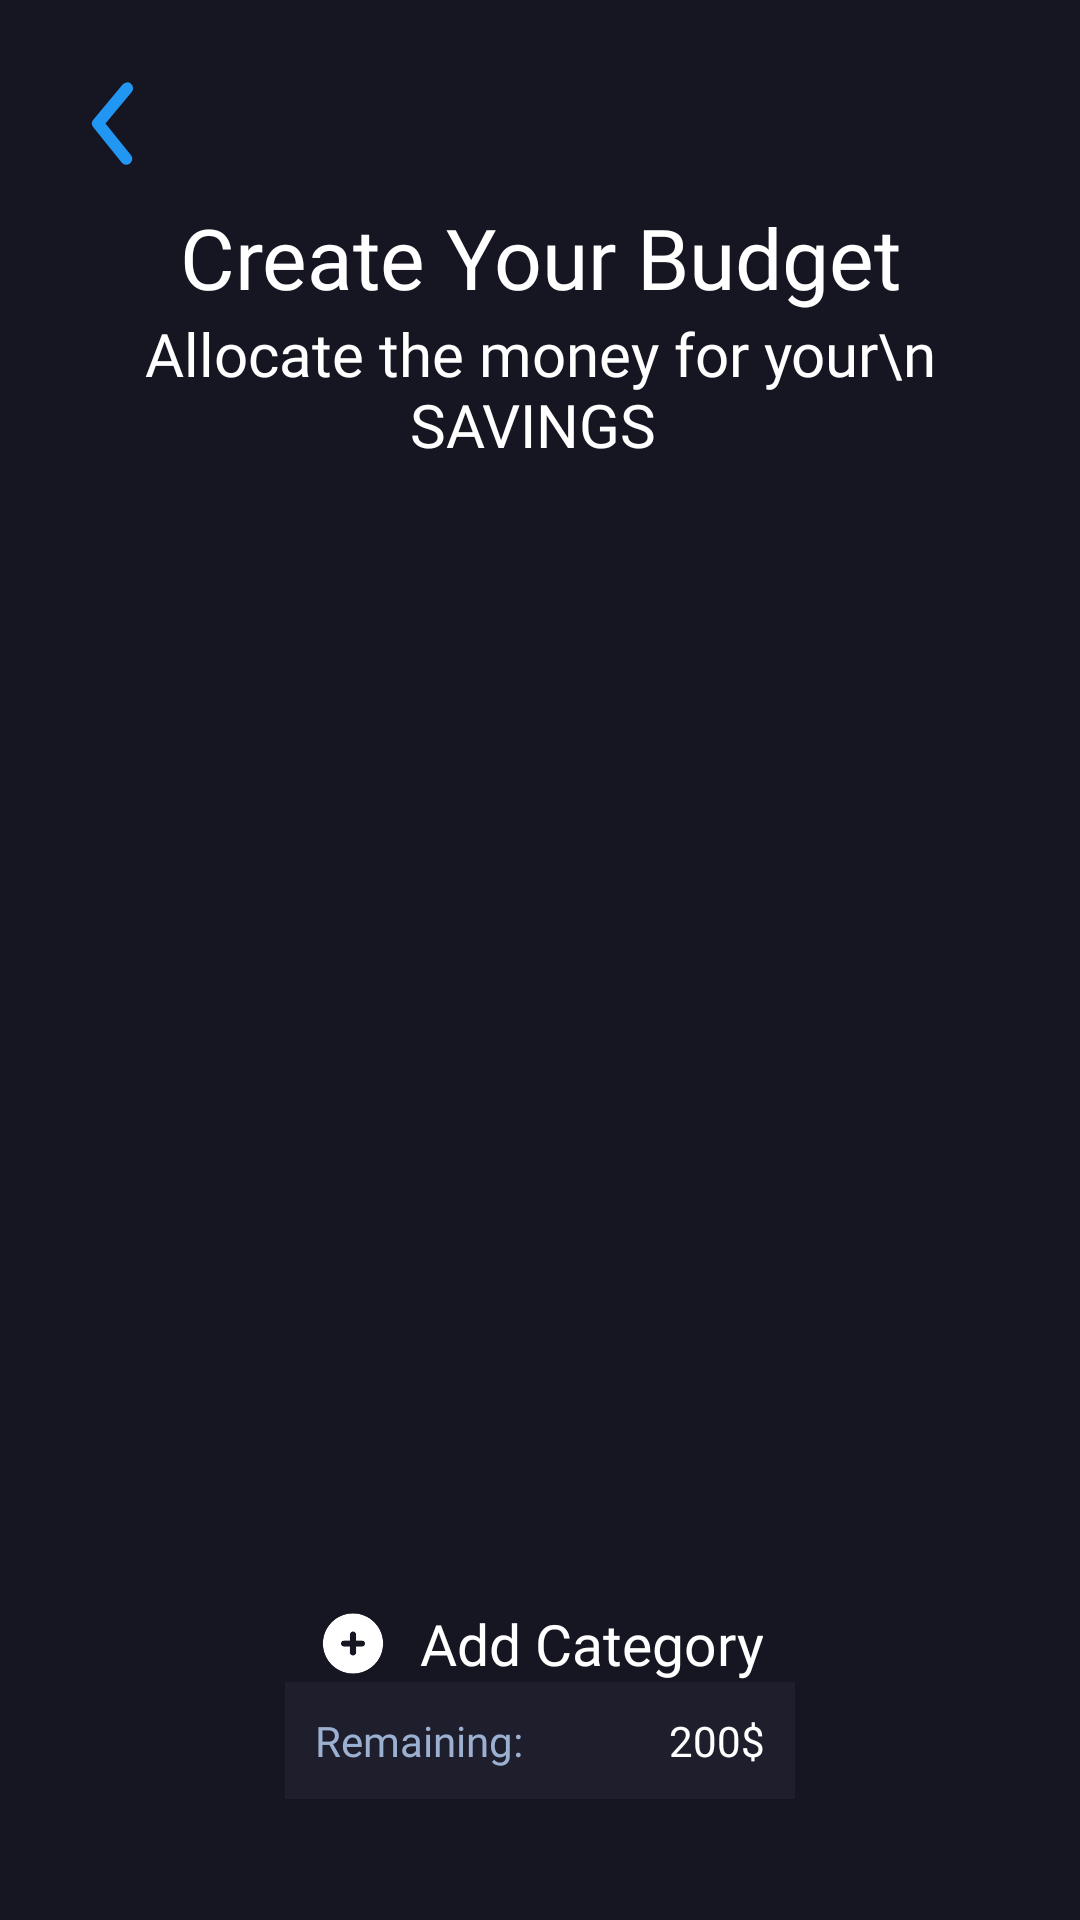

Icon click points for this 1080×1920 phone screenshot, format [x,y]:
arrow back: [112,123]
plus circle: [353,1643]
